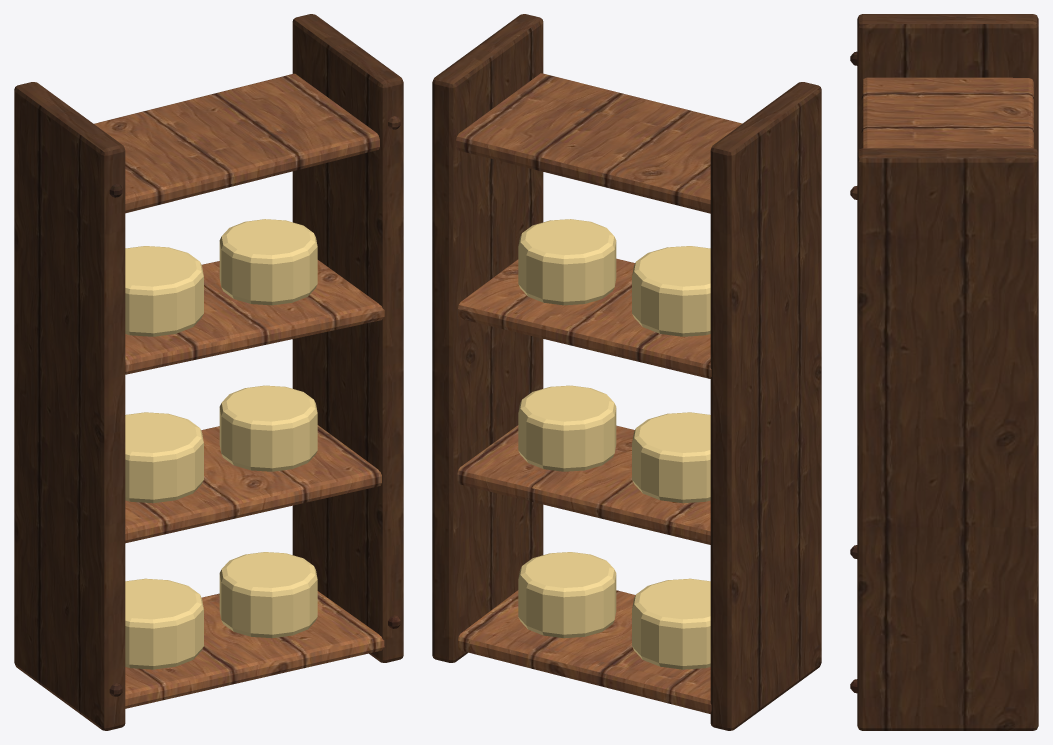
The model's file is cheese_shelf.glb.
3 views of the same model, side by side, from view 1: azimuth 30°, elevation 25°; view 2: azimuth 150°, elevation 25°; view 3: azimuth 270°, elevation 25° (orthographic).
Visible parts, largest first — view 1: model; view 2: model; view 3: model.
Part boxes in pixels (bbox=[...]): model: bbox=[14, 14, 403, 730]; model: bbox=[432, 14, 821, 730]; model: bbox=[850, 14, 1038, 730].
Bounding box in the file's own units: 0.76 × 1.4 × 0.4152.
Materials: 5 (4 with a texture image).
